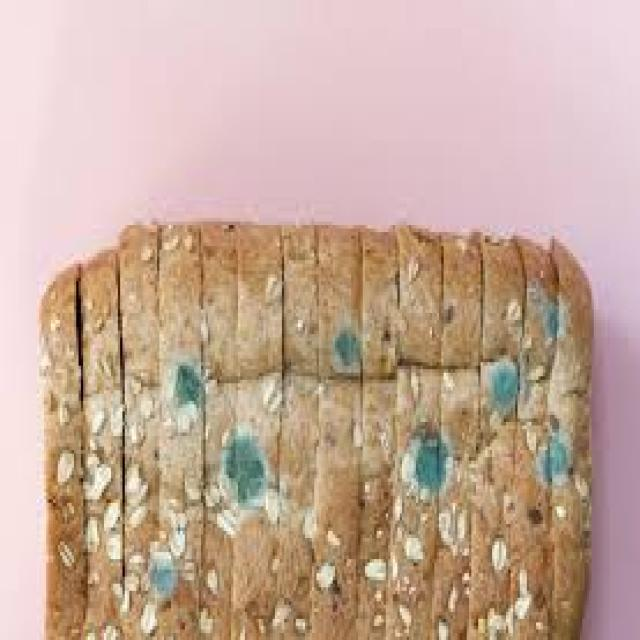food_waste: (39, 222, 591, 636)
